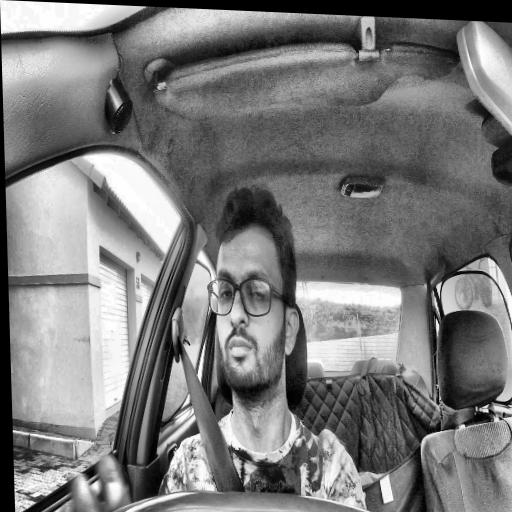drowsy: (204, 185, 303, 408)
